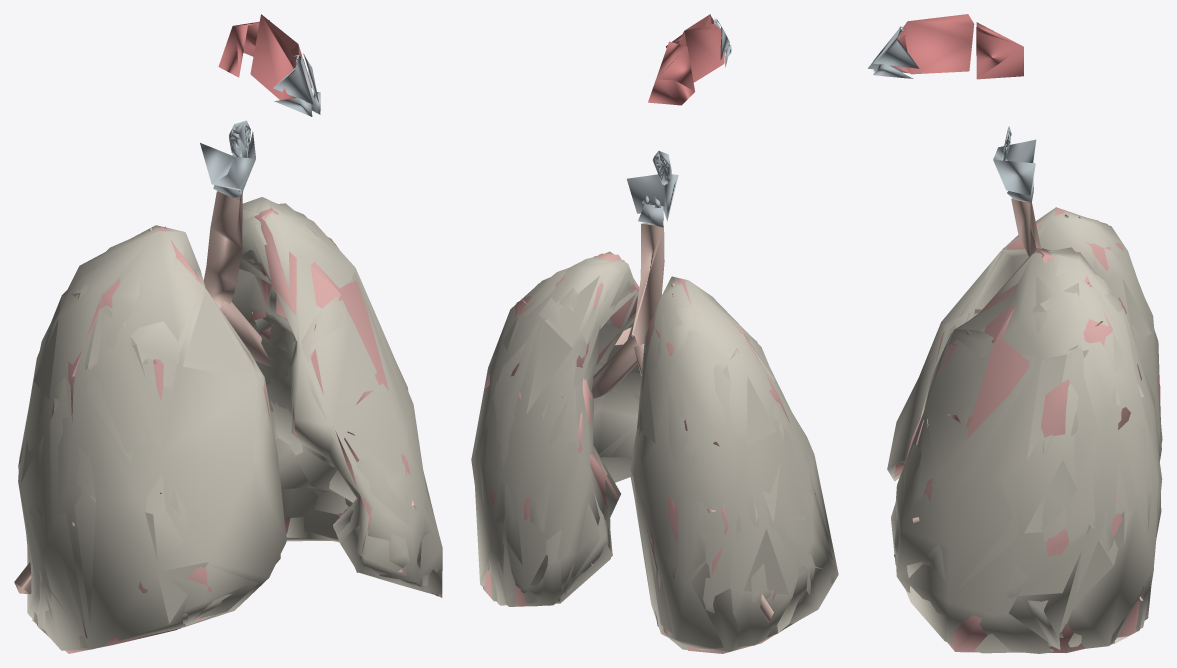
Rendered from adult_male.respiratory.LOD4.glb.
3 views of the same model, side by side, from view 1: azimuth 30°, elevation 25°; view 2: azimuth 150°, elevation 25°; view 3: azimuth 270°, elevation 25° (orthographic). The views are drawn at different scales.
Visible parts, largest first — view 1: ADULT.MALE.RESPIRATORY.PLEURA, ADULT.MALE.RESPIRATORY.SUPERIOR_LOBE_OF_LEFT_LUNG, ADULT.MALE.RESPIRATORY.TRACHEA, ADULT.MALE.RESPIRATORY.MUCOSA_OF_NASAL_CAVITY, ADULT.MALE.RESPIRATORY.THYROID_CARTILAGE, ADULT.MALE.RESPIRATORY.SUPERIOR_LOBE_OF_RIGHT_LUNG, ADULT.MALE.RESPIRATORY.NASOPHARYNX, ADULT.MALE.RESPIRATORY.LEFT_MAIN_BRONCHUS, ADULT.MALE.RESPIRATORY.LATERAL_PROCESS_OF_NASAL_SEPTAL_CARTI, ADULT.MALE.RESPIRATORY.EPIGLOTTIS; view 2: ADULT.MALE.RESPIRATORY.PLEURA, ADULT.MALE.RESPIRATORY.TRACHEA, ADULT.MALE.RESPIRATORY.NASOPHARYNX, ADULT.MALE.RESPIRATORY.MUCOSA_OF_NASAL_CAVITY, ADULT.MALE.RESPIRATORY.INFERIOR_LOBE_OF_LEFT_LUNG, ADULT.MALE.RESPIRATORY.LEFT_MAIN_BRONCHUS, ADULT.MALE.RESPIRATORY.THYROID_CARTILAGE, ADULT.MALE.RESPIRATORY.SUPERIOR_LOBE_OF_LEFT_LUNG, ADULT.MALE.RESPIRATORY.INFERIOR_LOBE_OF_RIGHT_LUNG, ADULT.MALE.RESPIRATORY.SUPERIOR_LOBE_OF_RIGHT_LUNG; view 3: ADULT.MALE.RESPIRATORY.PLEURA, ADULT.MALE.RESPIRATORY.SUPERIOR_LOBE_OF_LEFT_LUNG, ADULT.MALE.RESPIRATORY.MUCOSA_OF_NASAL_CAVITY, ADULT.MALE.RESPIRATORY.INFERIOR_LOBE_OF_LEFT_LUNG, ADULT.MALE.RESPIRATORY.NASOPHARYNX, ADULT.MALE.RESPIRATORY.THYROID_CARTILAGE, ADULT.MALE.RESPIRATORY.TRACHEA, ADULT.MALE.RESPIRATORY.LATERAL_PROCESS_OF_NASAL_SEPTAL_CARTI, ADULT.MALE.RESPIRATORY.SUPERIOR_LOBE_OF_RIGHT_LUNG.
Part boxes in pixels (left/top/right/bottom): ADULT.MALE.RESPIRATORY.PLEURA: left=18, top=197, right=442, bottom=650; ADULT.MALE.RESPIRATORY.SUPERIOR_LOBE_OF_LEFT_LUNG: left=251, top=207, right=410, bottom=572; ADULT.MALE.RESPIRATORY.TRACHEA: left=203, top=191, right=242, bottom=308; ADULT.MALE.RESPIRATORY.MUCOSA_OF_NASAL_CAVITY: left=250, top=14, right=311, bottom=100; ADULT.MALE.RESPIRATORY.THYROID_CARTILAGE: left=200, top=131, right=255, bottom=191; ADULT.MALE.RESPIRATORY.SUPERIOR_LOBE_OF_RIGHT_LUNG: left=68, top=227, right=270, bottom=493; ADULT.MALE.RESPIRATORY.NASOPHARYNX: left=218, top=20, right=269, bottom=77; ADULT.MALE.RESPIRATORY.LEFT_MAIN_BRONCHUS: left=220, top=301, right=270, bottom=366; ADULT.MALE.RESPIRATORY.LATERAL_PROCESS_OF_NASAL_SEPTAL_CARTI: left=273, top=55, right=313, bottom=104; ADULT.MALE.RESPIRATORY.EPIGLOTTIS: left=229, top=120, right=250, bottom=157; ADULT.MALE.RESPIRATORY.PLEURA: left=471, top=251, right=838, bottom=651; ADULT.MALE.RESPIRATORY.TRACHEA: left=631, top=223, right=664, bottom=345; ADULT.MALE.RESPIRATORY.NASOPHARYNX: left=648, top=41, right=694, bottom=105; ADULT.MALE.RESPIRATORY.MUCOSA_OF_NASAL_CAVITY: left=666, top=14, right=724, bottom=82; ADULT.MALE.RESPIRATORY.INFERIOR_LOBE_OF_LEFT_LUNG: left=484, top=378, right=618, bottom=606; ADULT.MALE.RESPIRATORY.LEFT_MAIN_BRONCHUS: left=591, top=335, right=640, bottom=398; ADULT.MALE.RESPIRATORY.THYROID_CARTILAGE: left=627, top=174, right=678, bottom=221; ADULT.MALE.RESPIRATORY.SUPERIOR_LOBE_OF_LEFT_LUNG: left=485, top=253, right=639, bottom=388; ADULT.MALE.RESPIRATORY.INFERIOR_LOBE_OF_RIGHT_LUNG: left=647, top=497, right=835, bottom=653; ADULT.MALE.RESPIRATORY.SUPERIOR_LOBE_OF_RIGHT_LUNG: left=640, top=279, right=789, bottom=446; ADULT.MALE.RESPIRATORY.PLEURA: left=887, top=207, right=1162, bottom=653; ADULT.MALE.RESPIRATORY.SUPERIOR_LOBE_OF_LEFT_LUNG: left=905, top=248, right=1141, bottom=501; ADULT.MALE.RESPIRATORY.MUCOSA_OF_NASAL_CAVITY: left=894, top=14, right=974, bottom=74; ADULT.MALE.RESPIRATORY.INFERIOR_LOBE_OF_LEFT_LUNG: left=894, top=495, right=1157, bottom=652; ADULT.MALE.RESPIRATORY.NASOPHARYNX: left=976, top=22, right=1023, bottom=79; ADULT.MALE.RESPIRATORY.THYROID_CARTILAGE: left=993, top=139, right=1036, bottom=195; ADULT.MALE.RESPIRATORY.TRACHEA: left=1011, top=198, right=1040, bottom=256; ADULT.MALE.RESPIRATORY.LATERAL_PROCESS_OF_NASAL_SEPTAL_CARTI: left=873, top=28, right=919, bottom=68; ADULT.MALE.RESPIRATORY.SUPERIOR_LOBE_OF_RIGHT_LUNG: left=936, top=208, right=1126, bottom=361.
Bounding box in the file's own units: 0.2649 × 0.4276 × 0.2031.
